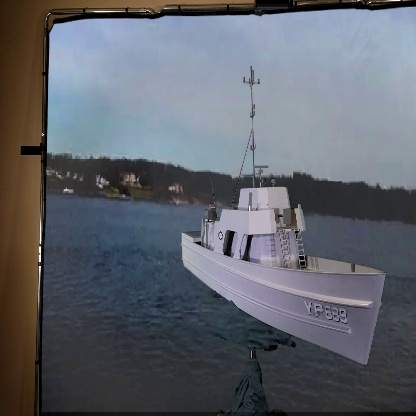YP689: (182, 67, 387, 365)
